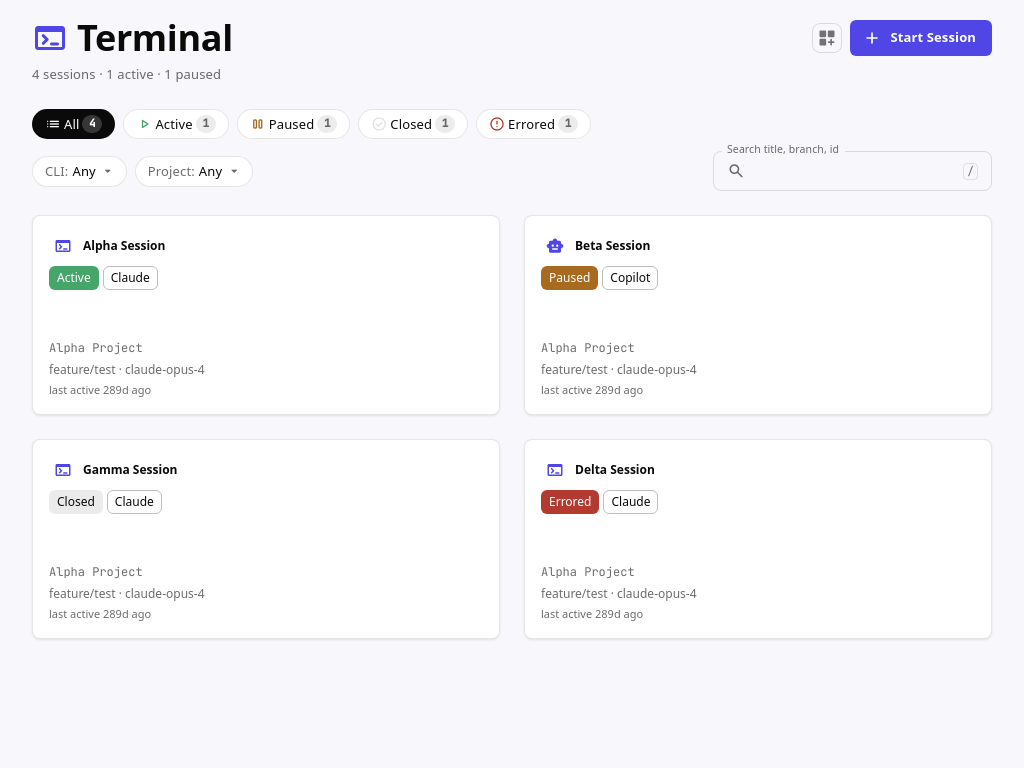
Terminal — with sessions › shows no-match message when filters exclude all sessions
Check: the heading "Alpha Session" is shown, box [83,237,165,254]
In the field: (854, 172) [753,152,955,192], type "zzznomatch"
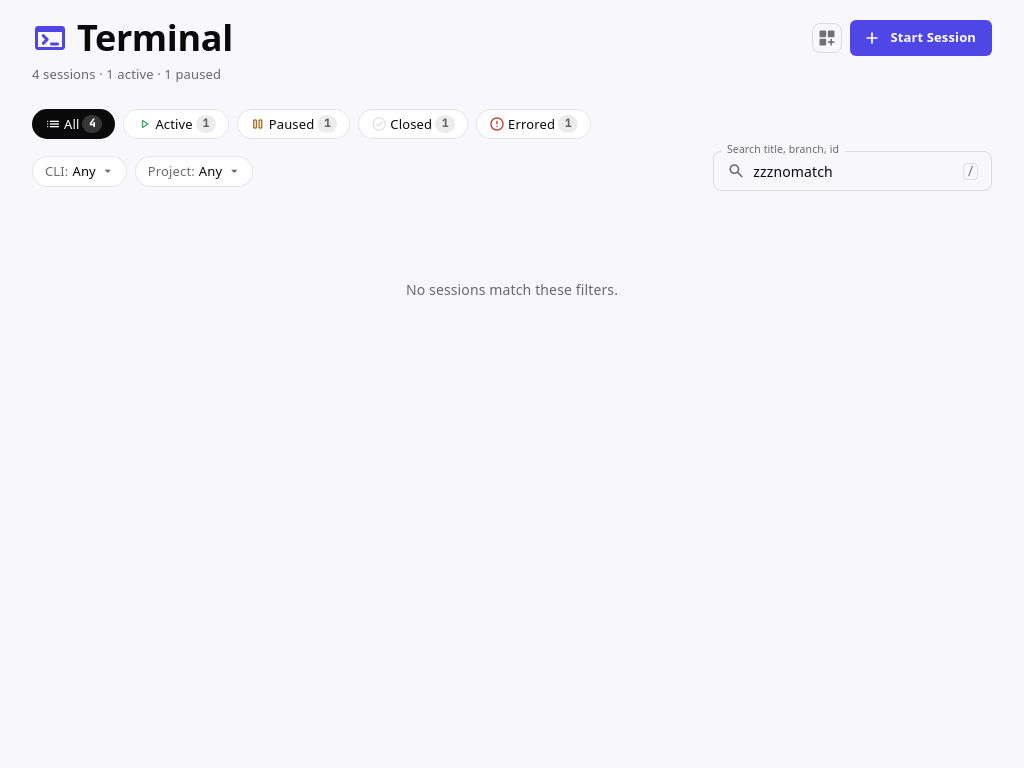
Check: the text "No sessions match these filters." is shown, box [406,280,618,300]
